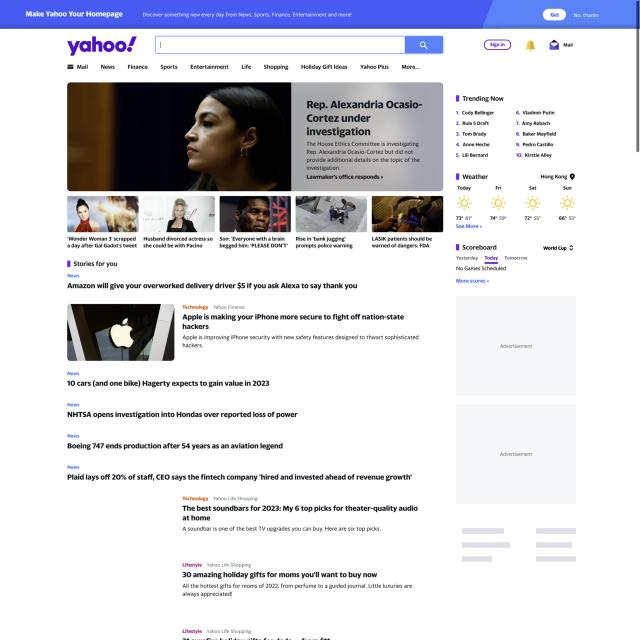input: (154, 34, 446, 56)
logo: (66, 32, 140, 58)
navigation: (452, 108, 564, 164), (64, 62, 424, 72)
